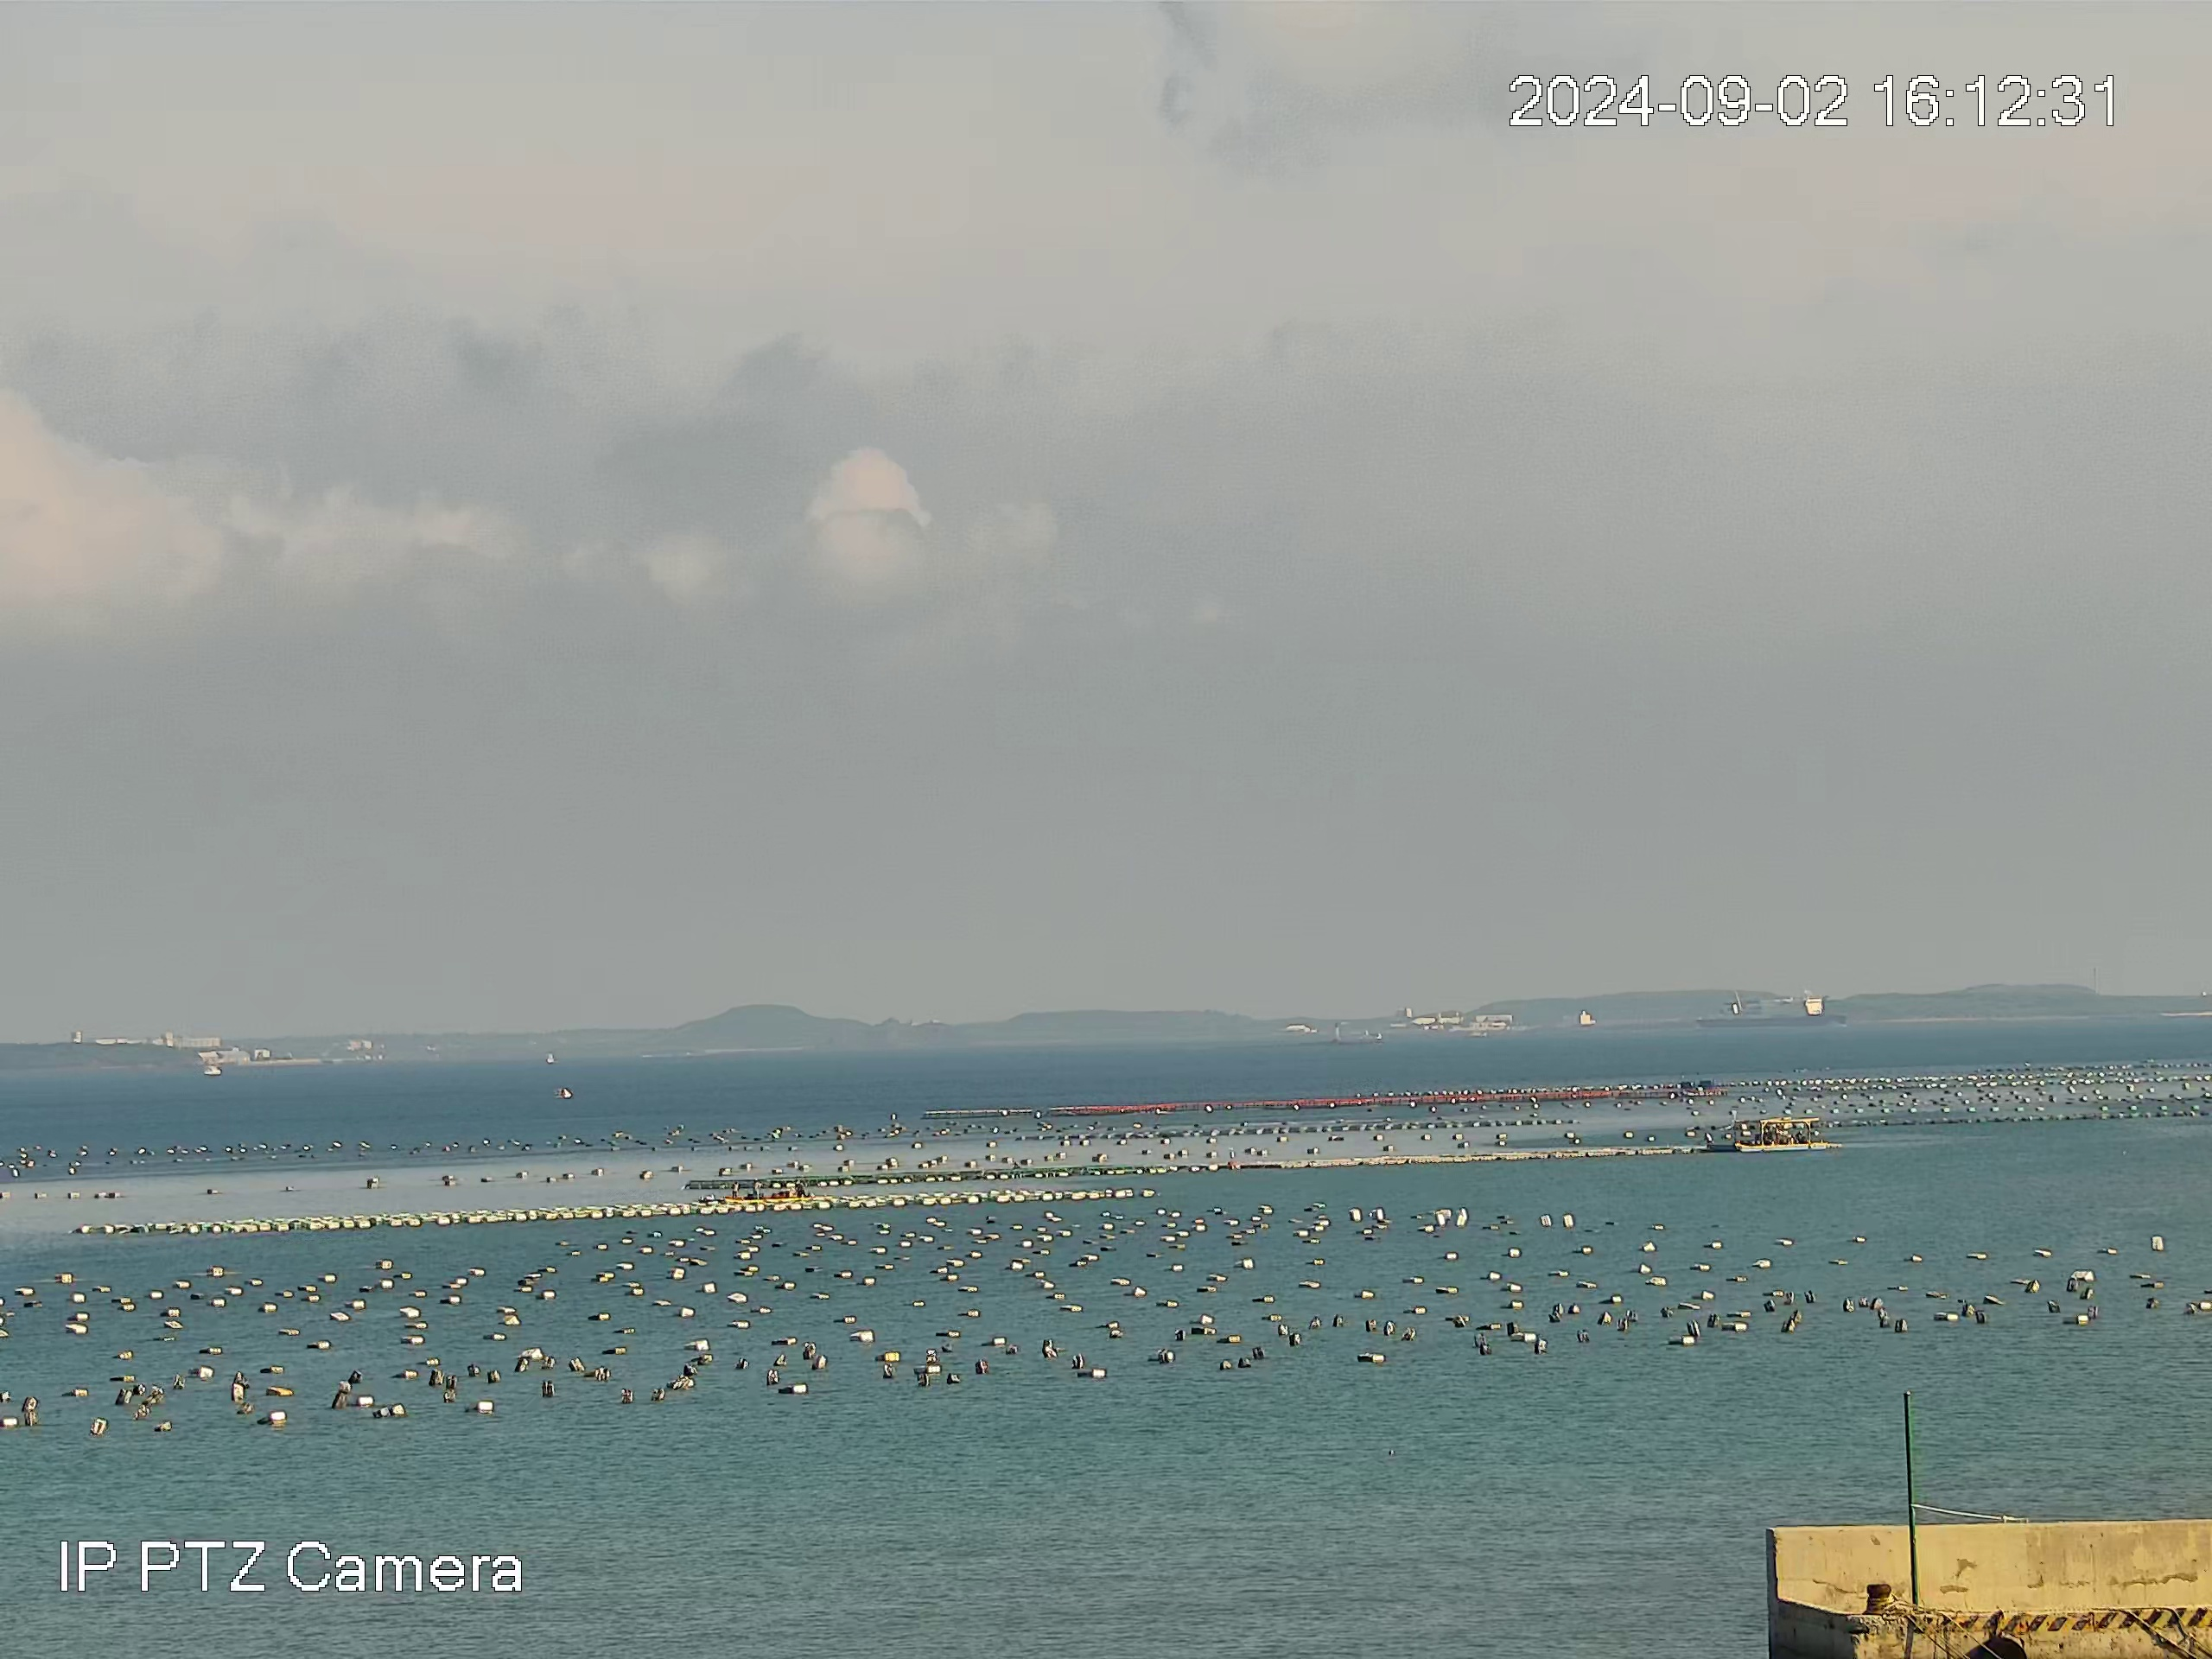boat: (1693, 993, 1850, 1028), (1733, 1117, 1829, 1154), (723, 1178, 815, 1204)
